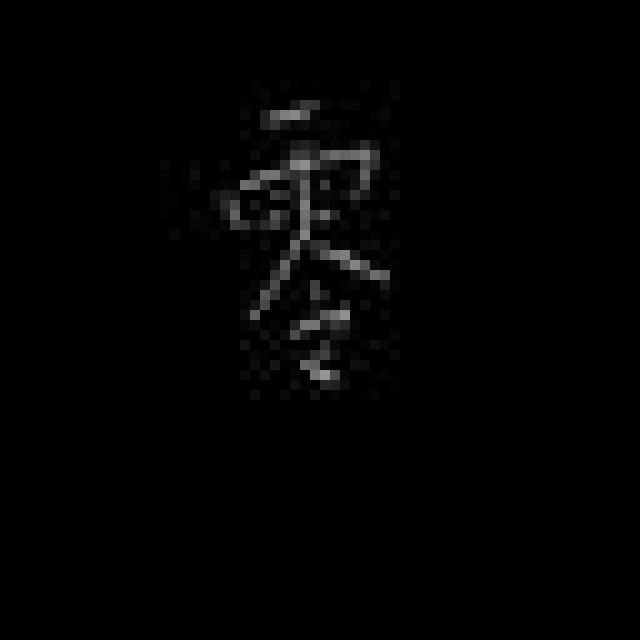0 -zero-: (214, 94, 396, 393)
